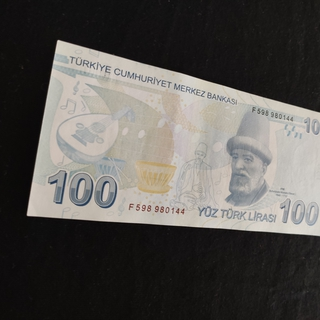100TLBack: (25, 39, 320, 237)
